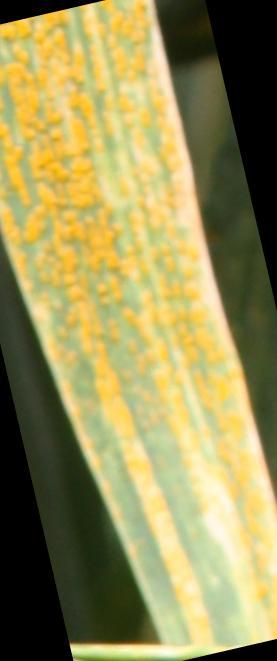Wheat: (1, 32, 149, 411)
